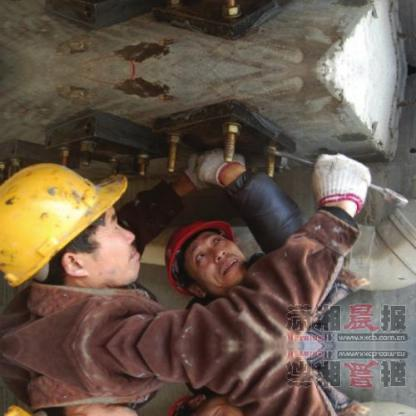helmet: (0, 153, 143, 303), (162, 212, 249, 294), (161, 394, 249, 414)
